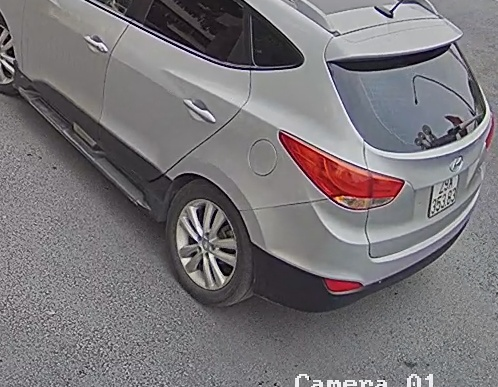vehicle plate: (427, 171, 459, 218)
